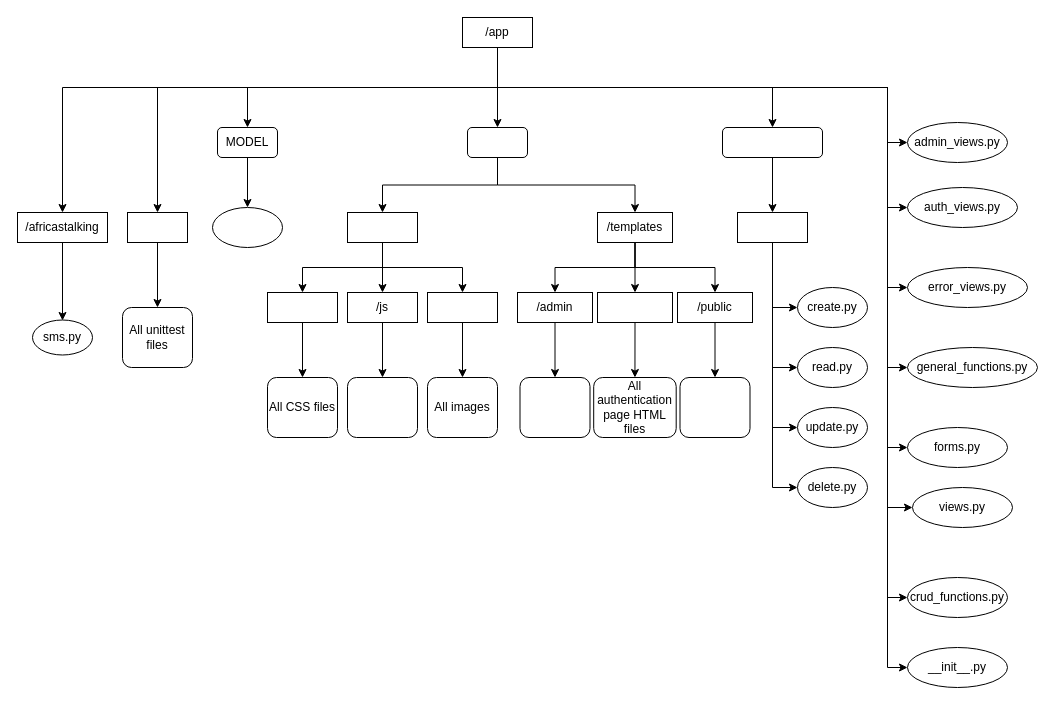
This 1055x705 diagram has some shape labels left out. The centre of each missing label's shape, as x and y in pixels:
/auth: the point at 634,307
/controllers: the point at 772,227
/css: the point at 302,307
/img: the point at 462,307
/static: the point at 382,227
/tests: the point at 157,227
All admin page HTML files: the point at 554,407
All JavaScript files: the point at 382,407
All public facing HTML files: the point at 714,407
CONTROLLERS: the point at 772,142
models.py: the point at 247,227
VIEWS: the point at 497,142
